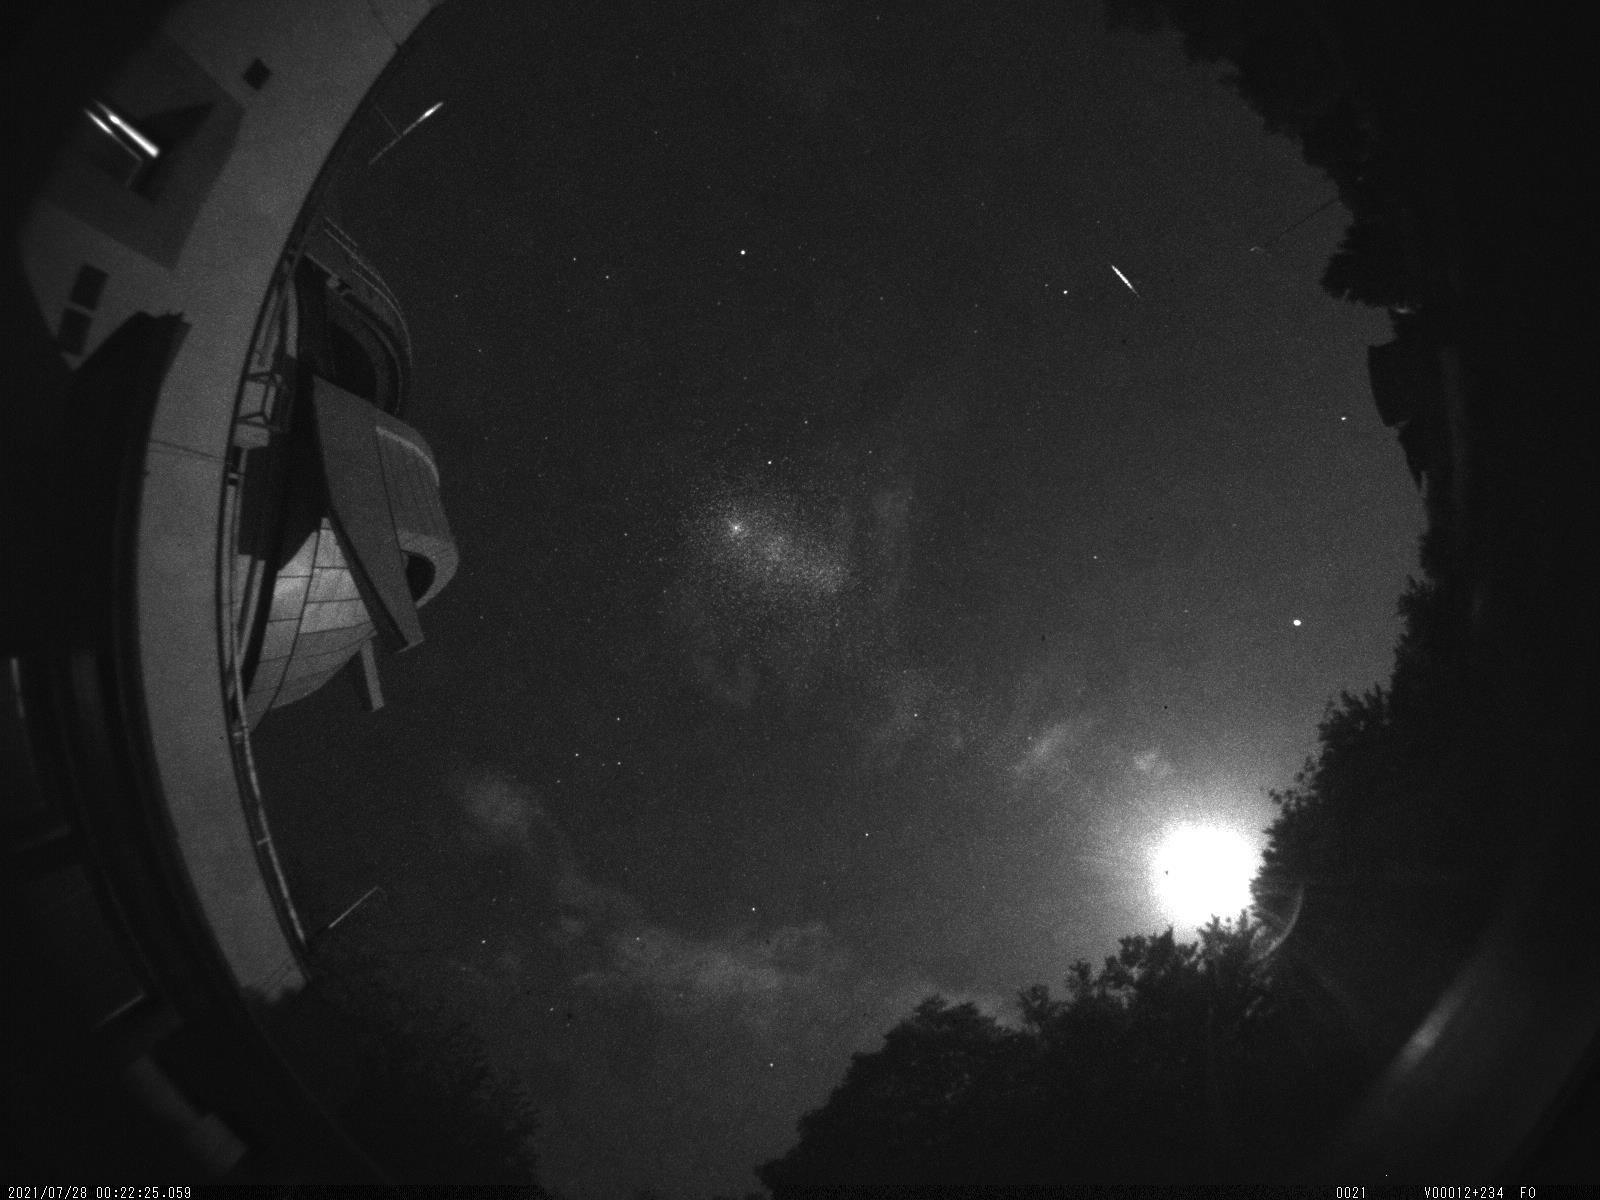Meteor: (1097, 253, 1150, 301)
